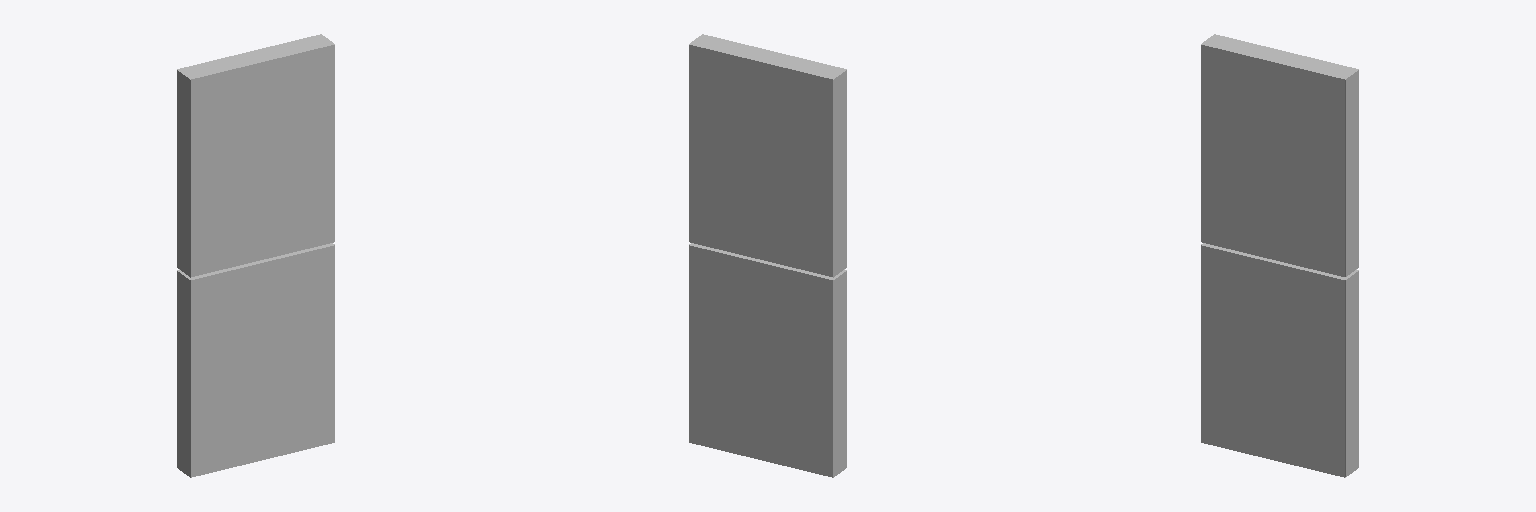
Rendered from boxtape.obj.
The picture shows the model from 3 angles: view 1: azimuth 30°, elevation 25°; view 2: azimuth 150°, elevation 25°; view 3: azimuth 330°, elevation 25°; orthographic projection.
Visible parts, largest first — view 1: boxtape_boxgb_box.007; view 2: boxtape_boxgb_box.007; view 3: boxtape_boxgb_box.007.
Part boxes in pixels (x1,y1,x2,y2): boxtape_boxgb_box.007: (177, 34, 334, 477); boxtape_boxgb_box.007: (689, 34, 846, 477); boxtape_boxgb_box.007: (1201, 34, 1358, 477).
Bounding box in the file's own units: 1.19 × 3.11 × 0.1988.